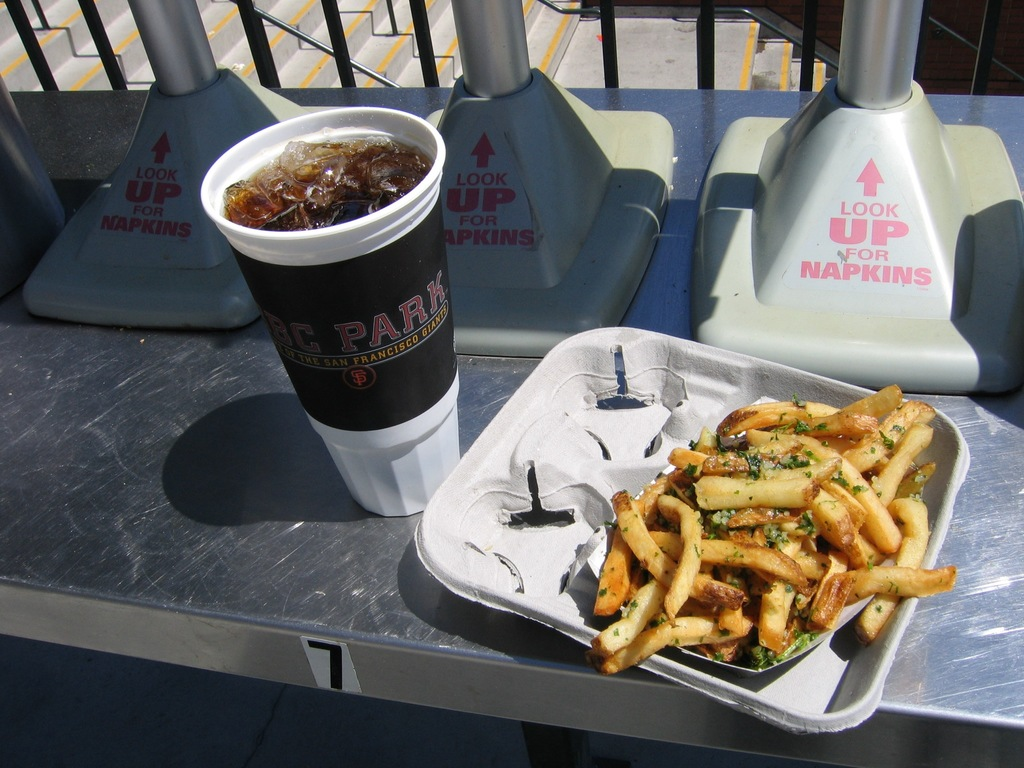French fries: (580, 373, 963, 687)
